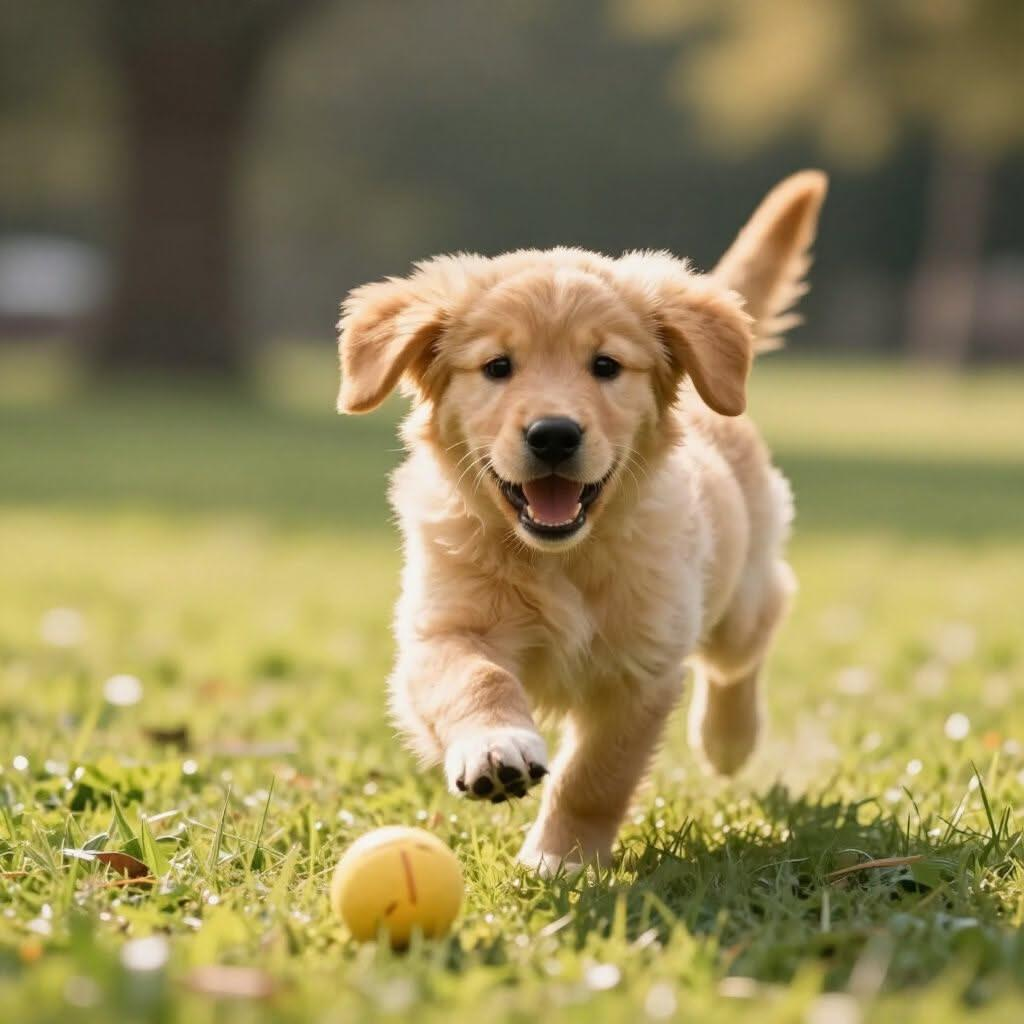puppy-dog: (329, 169, 832, 886)
